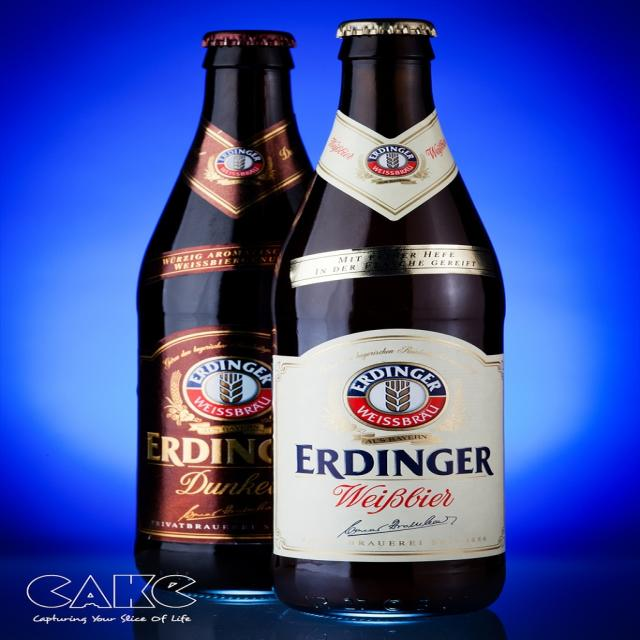erdinger: (291, 347, 503, 484), (142, 341, 276, 472), (355, 142, 431, 187), (203, 145, 278, 188)
